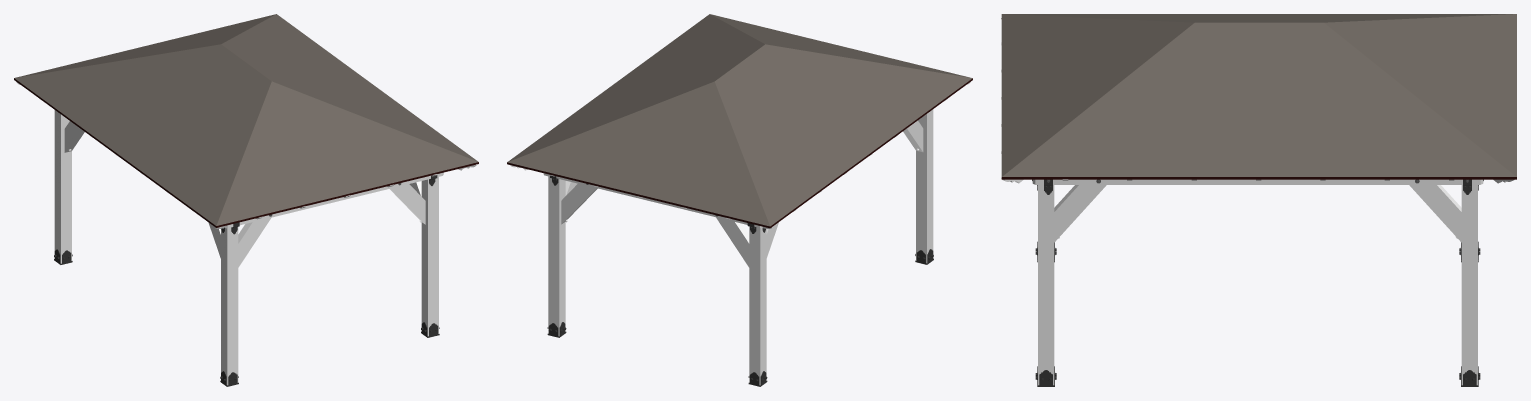
The model's file is saratoga-12x16-classic.obj.
3 renders of one model, left to right at view 1: azimuth 30°, elevation 25°; view 2: azimuth 150°, elevation 25°; view 3: azimuth 270°, elevation 25°, orthographic. The views are drawn at different scales.
Parts seen in each view (by area): view 1: Mesh230 shingles roof Group1 Model, Mesh181 Group74 Component_92_4 Group1 Model, Mesh83 Group46 Component_92_2 Group1 Model, Mesh132 Group60 Component_92_3 Group1 Model, Mesh231 roof Group1 Model, Mesh79 Component_135_1 Group1 Model, Mesh221 Component_91_7 Component_92_4 Group1 Model, Mesh123 Component_91_3 Component_92_2 Group1 Model, Mesh176 Component_91_6 Component_92_3 Group1 Model; view 2: Mesh230 shingles roof Group1 Model, Mesh132 Group60 Component_92_3 Group1 Model, Mesh1 Group3 Component_92_1 Group2 Group1 Model, Mesh181 Group74 Component_92_4 Group1 Model, Mesh231 roof Group1 Model, Mesh172 Component_91_5 Component_92_3 Group1 Model, Mesh41 Component_91_1 Component_92_1 Group2 Group1 Model, Mesh81 Component_135_2 Group1 Model, Mesh225 Component_91_8 Component_92_4 Group1 Model; view 3: Mesh230 shingles roof Group1 Model, Mesh1 Group3 Component_92_1 Group2 Group1 Model, Mesh83 Group46 Component_92_2 Group1 Model, Mesh82 Component_134_2 Group1 Model, Mesh231 roof Group1 Model, Mesh45 Component_91_2 Component_92_1 Group2 Group1 Model, Mesh127 Component_91_4 Component_92_2 Group1 Model.
Boxes of the visible parts, box(x1,y1,x2,y2) form: Mesh230 shingles roof Group1 Model: box(14, 14, 478, 225); Mesh181 Group74 Component_92_4 Group1 Model: box(221, 227, 238, 385); Mesh83 Group46 Component_92_2 Group1 Model: box(421, 177, 438, 336); Mesh132 Group60 Component_92_3 Group1 Model: box(54, 110, 71, 263); Mesh231 roof Group1 Model: box(14, 78, 478, 227); Mesh79 Component_135_1 Group1 Model: box(224, 172, 443, 228); Mesh221 Component_91_7 Component_92_4 Group1 Model: box(238, 217, 271, 267); Mesh123 Component_91_3 Component_92_2 Group1 Model: box(390, 184, 425, 224); Mesh176 Component_91_6 Component_92_3 Group1 Model: box(64, 121, 84, 152); Mesh230 shingles roof Group1 Model: box(507, 14, 972, 226); Mesh132 Group60 Component_92_3 Group1 Model: box(749, 226, 766, 385); Mesh1 Group3 Component_92_1 Group2 Group1 Model: box(548, 176, 565, 336); Mesh181 Group74 Component_92_4 Group1 Model: box(916, 109, 933, 263); Mesh231 roof Group1 Model: box(507, 78, 972, 228); Mesh172 Component_91_5 Component_92_3 Group1 Model: box(716, 217, 749, 267); Mesh41 Component_91_1 Component_92_1 Group2 Group1 Model: box(561, 183, 597, 224); Mesh81 Component_135_2 Group1 Model: box(543, 173, 762, 227); Mesh225 Component_91_8 Component_92_4 Group1 Model: box(903, 120, 923, 152); Mesh230 shingles roof Group1 Model: box(1001, 14, 1516, 176); Mesh1 Group3 Component_92_1 Group2 Group1 Model: box(1461, 185, 1477, 385); Mesh83 Group46 Component_92_2 Group1 Model: box(1038, 185, 1054, 385); Mesh82 Component_134_2 Group1 Model: box(1043, 179, 1472, 184); Mesh231 roof Group1 Model: box(1001, 177, 1516, 179); Mesh45 Component_91_2 Component_92_1 Group2 Group1 Model: box(1409, 185, 1461, 242); Mesh127 Component_91_4 Component_92_2 Group1 Model: box(1054, 185, 1106, 242).
Bounding box in the file's own units: 144 × 123 × 192.
